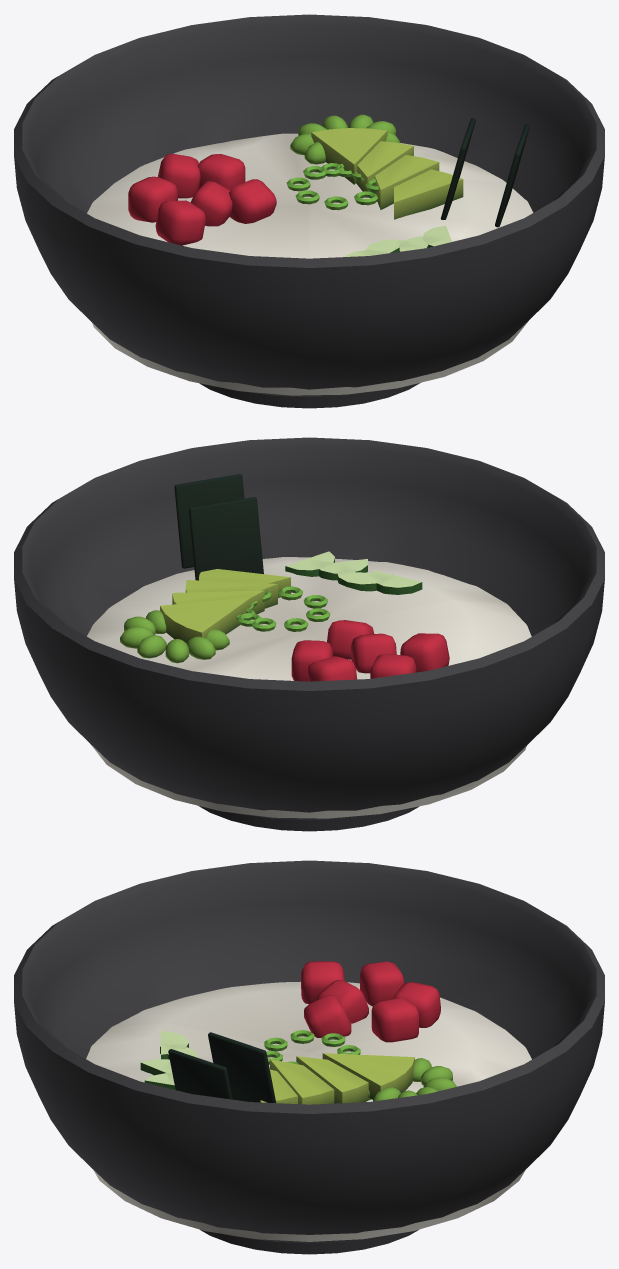
File: dish-poke-bowl-lod1.glb
3 views of the same model, one above another, from view 1: azimuth 30°, elevation 25°; view 2: azimuth 150°, elevation 25°; view 3: azimuth 270°, elevation 25° (orthographic).
Visible parts, largest first — view 1: poke-bowl.lod1__table dark glaze, poke-bowl.lod1__food, poke-bowl.lod1__food glaze; view 2: poke-bowl.lod1__table dark glaze, poke-bowl.lod1__food, poke-bowl.lod1__food glaze; view 3: poke-bowl.lod1__table dark glaze, poke-bowl.lod1__food, poke-bowl.lod1__food glaze.
Part boxes in pixels (x1,y1,x2,y2): poke-bowl.lod1__table dark glaze: [14, 14, 604, 408]; poke-bowl.lod1__food: [87, 114, 533, 395]; poke-bowl.lod1__food glaze: [128, 153, 276, 245]; poke-bowl.lod1__table dark glaze: [14, 437, 604, 831]; poke-bowl.lod1__food: [87, 474, 531, 818]; poke-bowl.lod1__food glaze: [291, 620, 449, 681]; poke-bowl.lod1__table dark glaze: [14, 860, 604, 1254]; poke-bowl.lod1__food: [86, 982, 531, 1241]; poke-bowl.lod1__food glaze: [301, 961, 440, 1042].
Bounding box in the file's own units: 0.18 × 0.0722 × 0.179.
